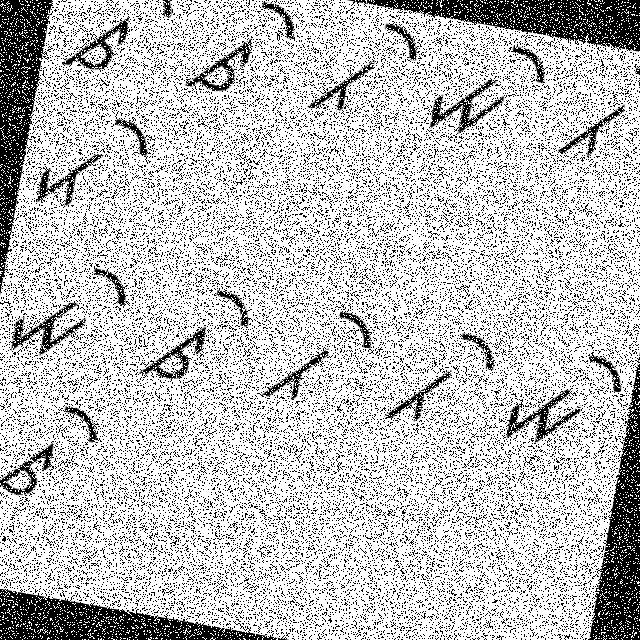bay: (371, 306, 505, 442), (252, 288, 382, 420), (302, 3, 425, 134), (557, 42, 639, 175)
cay: (137, 264, 258, 401), (176, 0, 305, 122), (0, 385, 110, 515), (57, 0, 181, 85)
may: (499, 326, 630, 466), (3, 239, 134, 379), (422, 22, 556, 156)
